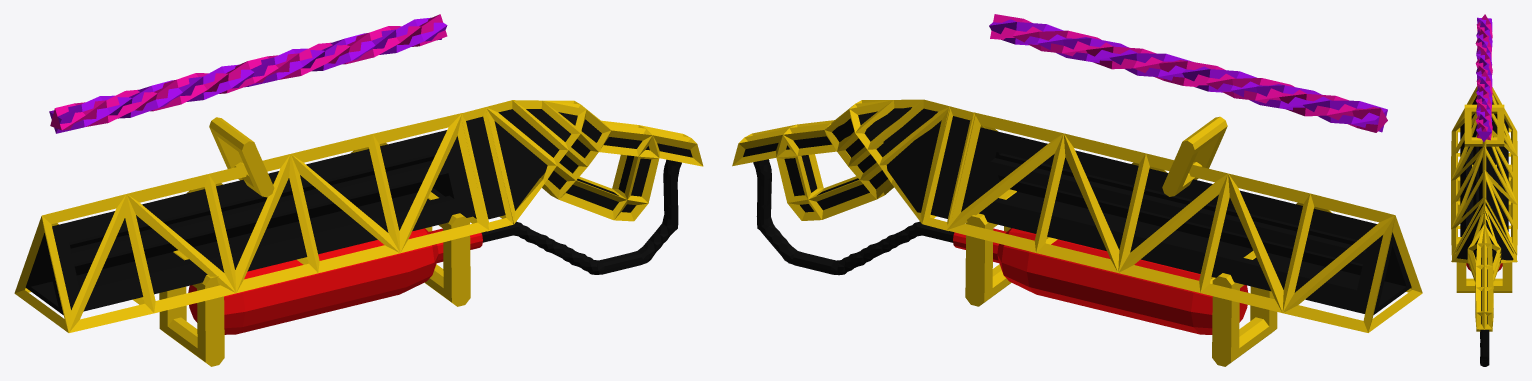
Rendered from GameJamBeamGun.fbx.
3 views of the same model, side by side, from view 1: azimuth 30°, elevation 25°; view 2: azimuth 150°, elevation 25°; view 3: azimuth 270°, elevation 25° (orthographic). The views are drawn at different scales.
Visible parts, largest first — view 1: Cube.013, Plane.001, Plane; view 2: Cube.013, Plane.001, Plane; view 3: Cube.013, Plane.001, Plane.
Boxes of the visible parts, x1=… form: Cube.013: x1=14, y1=100, x2=703, y2=366; Plane.001: x1=49, y1=17, x2=447, y2=133; Plane: x1=50, y1=14, x2=447, y2=130; Cube.013: x1=732, y1=99, x2=1422, y2=366; Plane.001: x1=989, y1=19, x2=1387, y2=132; Plane: x1=990, y1=14, x2=1387, y2=132; Cube.013: x1=1451, y1=86, x2=1517, y2=366; Plane.001: x1=1476, y1=17, x2=1492, y2=141; Plane: x1=1475, y1=14, x2=1492, y2=140.
Bounding box in the file's own units: 560 × 243 × 82.03.
